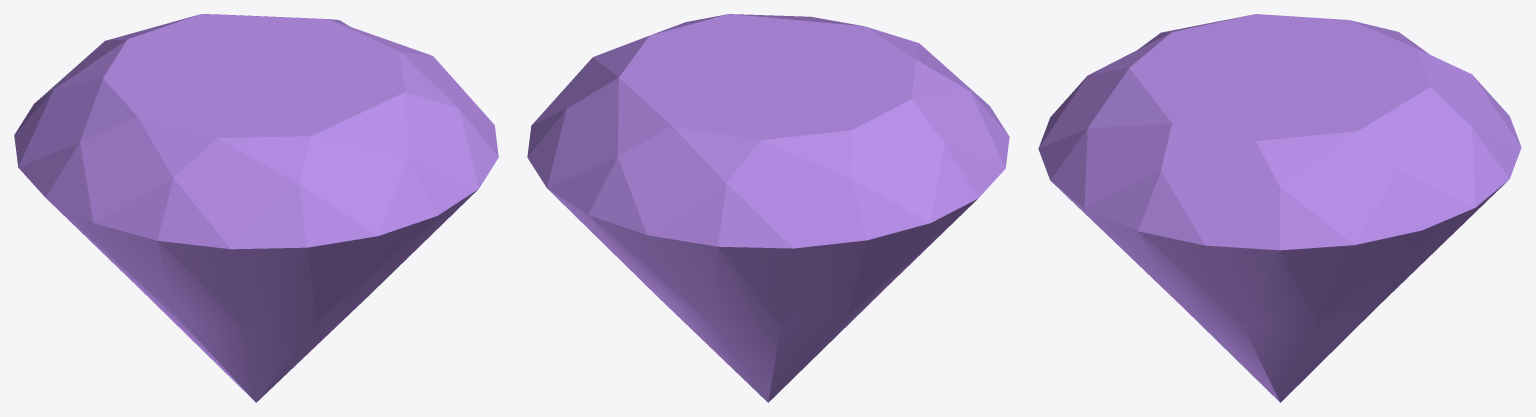
The model's file is Diamond.fbx.
3 renders of one model, left to right at view 1: azimuth 30°, elevation 25°; view 2: azimuth 150°, elevation 25°; view 3: azimuth 270°, elevation 25°, orthographic.
Visible parts, largest first — view 1: Diamond; view 2: Diamond; view 3: Diamond.
Part boxes in pixels (x1,y1,x2,y2): Diamond: (14, 14, 498, 402); Diamond: (527, 14, 1009, 402); Diamond: (1038, 14, 1521, 402).
Size of the model in its own units: 114 by 85.18 by 114.
